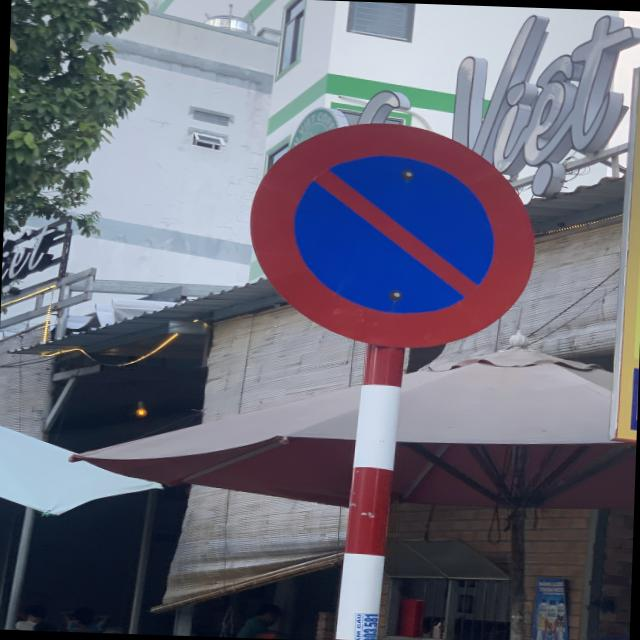Cam_Dau_Xe: (238, 116, 542, 351)
